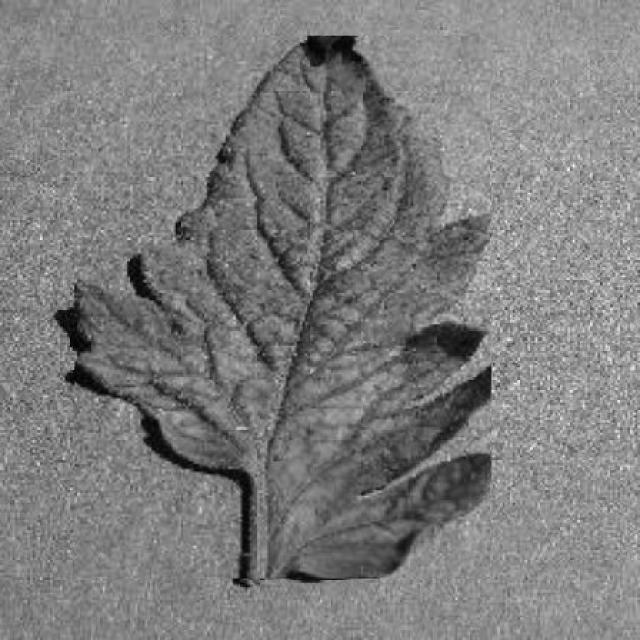Mosaic Virus: (75, 37, 491, 580)
